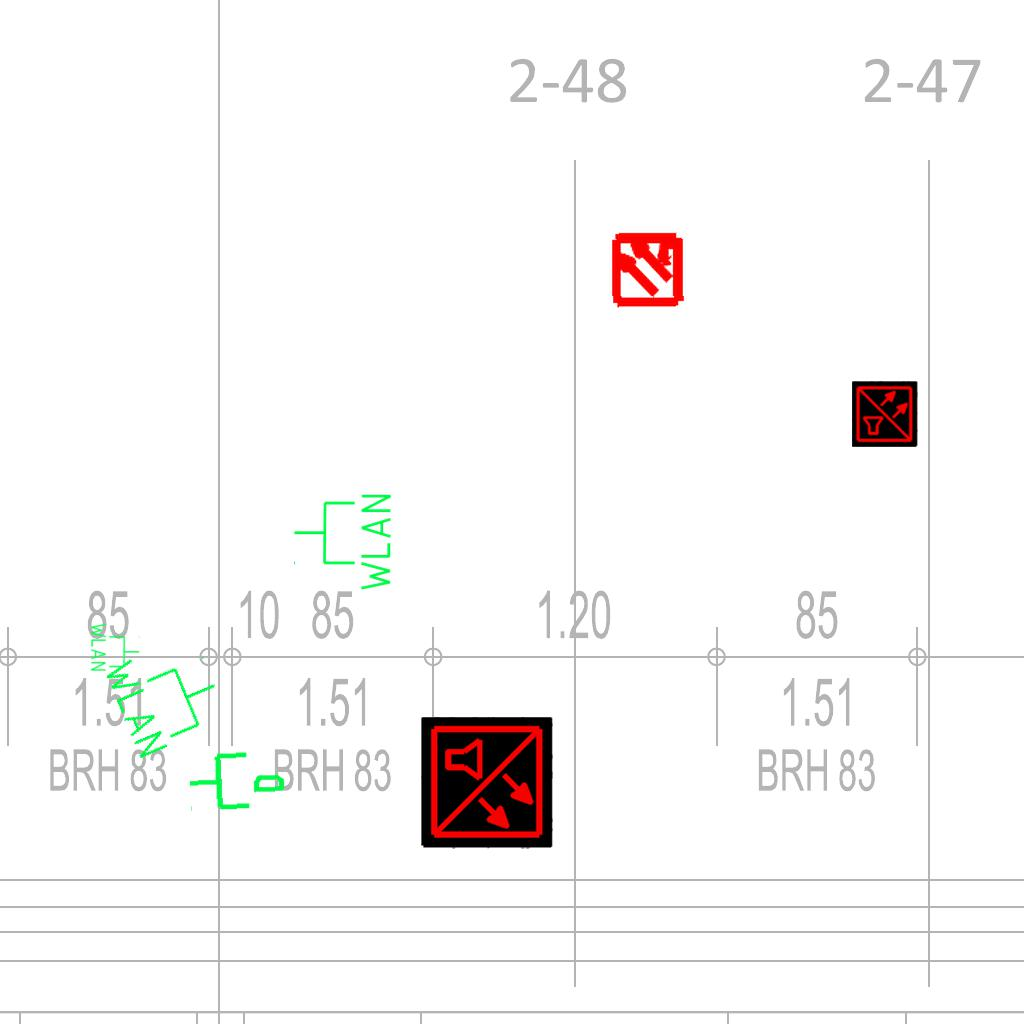Datenanschluss_einfach: (184, 741, 289, 817)
OKW_Multisensormelder_(Kombination_optischer_Rauch-Kahlenmonoxid_Waerme-Melder): (421, 717, 553, 849), (852, 381, 918, 447)
OT_Multisensormelder_(Kombination_RMO_WMD): (590, 210, 705, 325)
WLAN: (97, 626, 235, 765), (291, 490, 395, 595), (89, 621, 141, 673)
